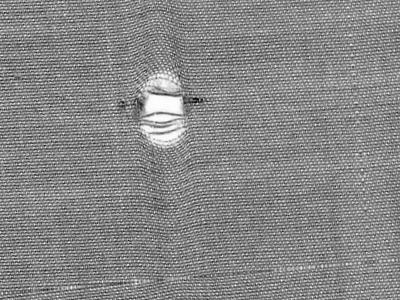hole: (131, 67, 189, 150)
